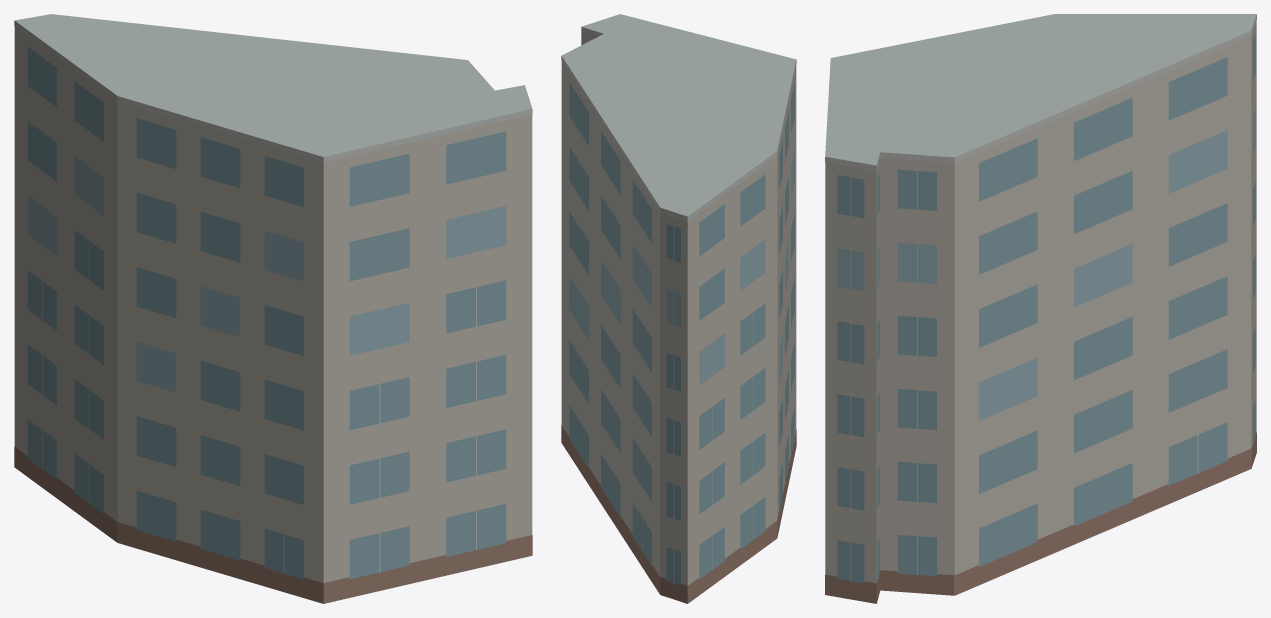
Rendered from survey-upis-32528351.glb.
3 views of the same model, side by side, from view 1: azimuth 30°, elevation 25°; view 2: azimuth 150°, elevation 25°; view 3: azimuth 270°, elevation 25° (orthographic). The views are drawn at different scales.
Visible parts, largest first — view 1: survey-upis-32528351.tmp; view 2: survey-upis-32528351.tmp; view 3: survey-upis-32528351.tmp.
Boxes of the visible parts, x1,y1,x2,y2 form: survey-upis-32528351.tmp: [14, 14, 532, 603]; survey-upis-32528351.tmp: [561, 14, 796, 603]; survey-upis-32528351.tmp: [825, 14, 1256, 603].
Bounding box in the file's own units: 14.52 × 19.55 × 17.46.
